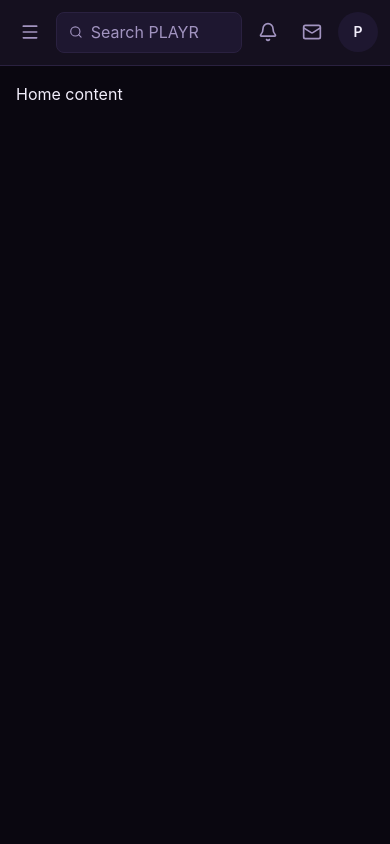
AppShell › opens the mobile drawer from the menu button
Step 1. Click the button named "Open menu" → (30, 32), box [12,14,48,50]
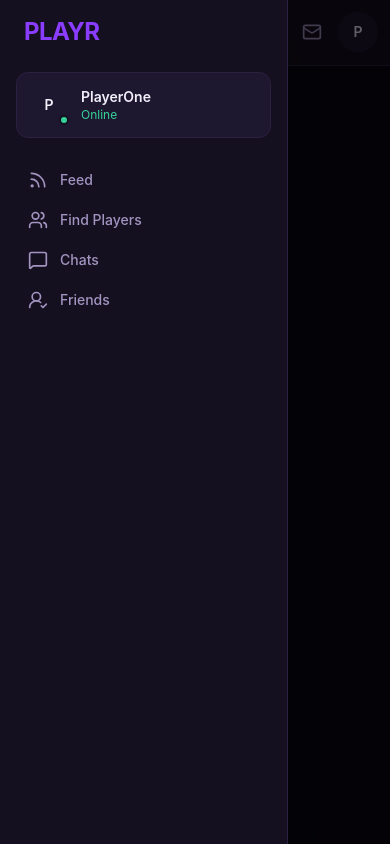
expect the number of links "feed" is 2: met
